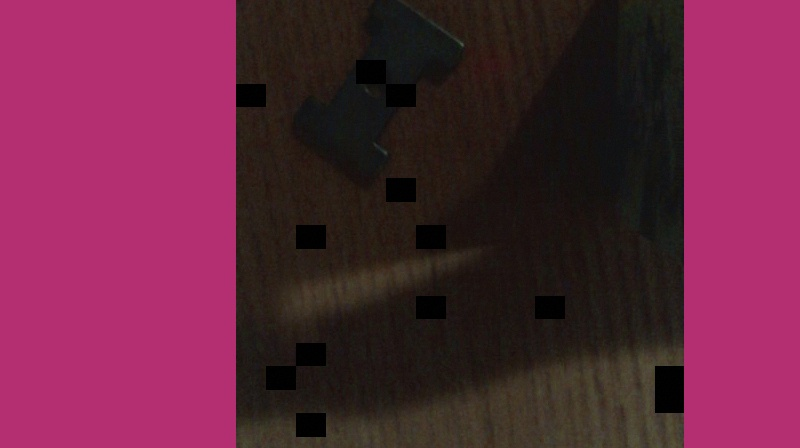O002: (287, 0, 468, 190)
